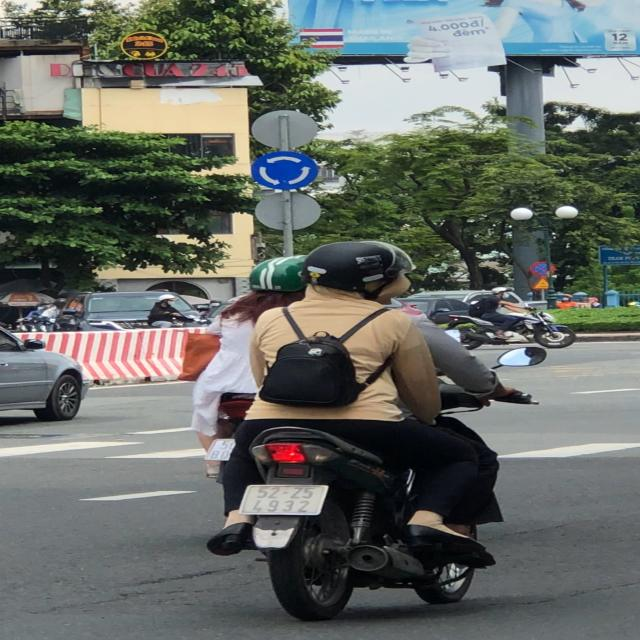Bien bao noi giao nhau chay theo vong xuyen: (248, 148, 321, 193)
